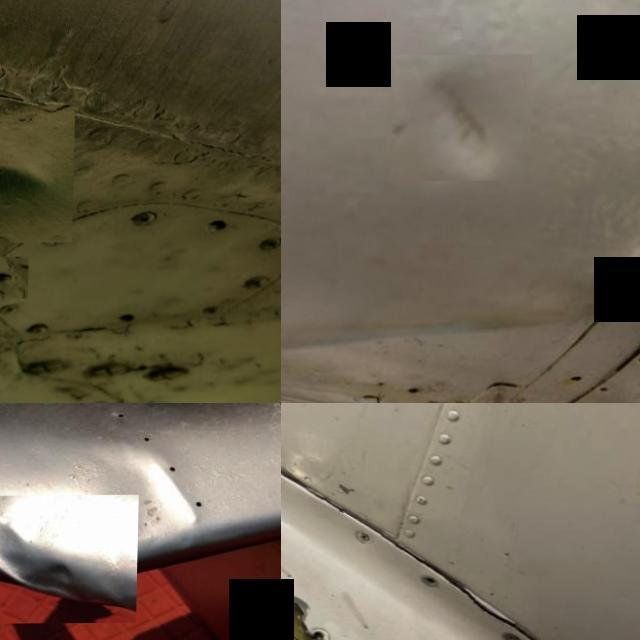Crack: (281, 582, 335, 640), (458, 584, 525, 630)
Dent: (0, 495, 140, 624), (392, 55, 534, 182), (0, 105, 76, 243), (51, 403, 229, 422)
Missing_Fastener: (192, 203, 244, 252), (107, 298, 150, 339), (0, 256, 30, 299), (416, 575, 444, 591)
